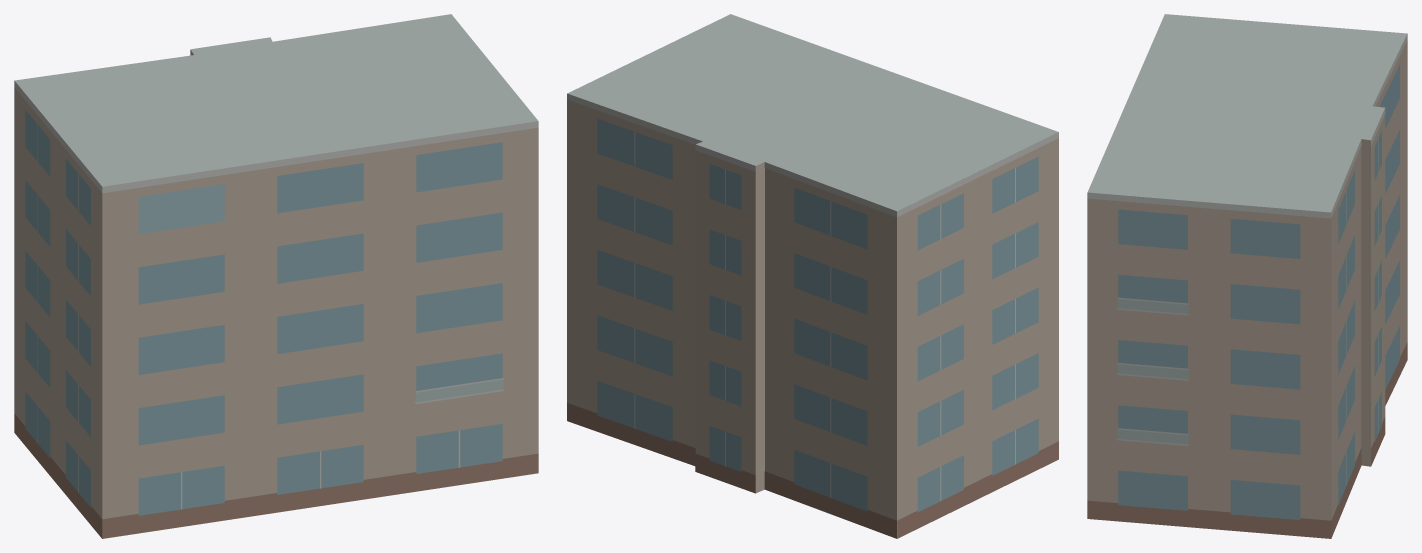
The model's file is survey-upis-32598760.glb.
3 views of the same model, side by side, from view 1: azimuth 30°, elevation 25°; view 2: azimuth 150°, elevation 25°; view 3: azimuth 270°, elevation 25° (orthographic). The views are drawn at different scales.
Visible parts, largest first — view 1: survey-upis-32598760.tmp; view 2: survey-upis-32598760.tmp; view 3: survey-upis-32598760.tmp.
Part boxes in pixels (x1=…): survey-upis-32598760.tmp: x1=14, y1=14, x2=538, y2=538; survey-upis-32598760.tmp: x1=567, y1=14, x2=1058, y2=538; survey-upis-32598760.tmp: x1=1087, y1=14, x2=1407, y2=538.
Bounding box in the file's own units: 17.19 × 13.17 × 11.72.
